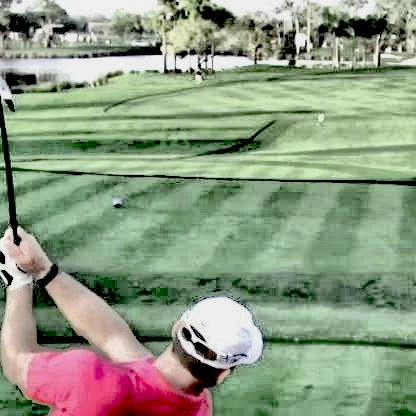golfball: (314, 111, 323, 119)
